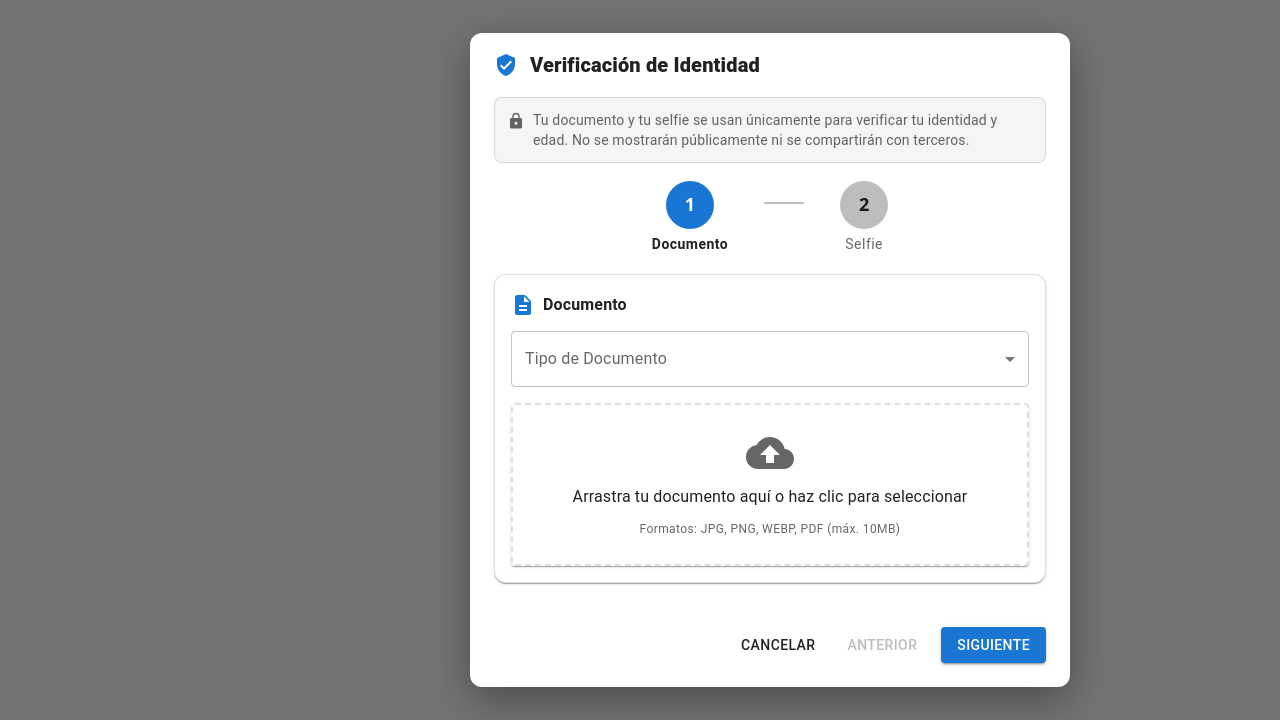
Test: IdentityVerificationDialog (paginated wizard) › navigates freely between pages without completing them
The width and height of the screenshot is (1280, 720).
Click the button "Siguiente" at x=994, y=645, box left=941, top=627, right=1046, bottom=663
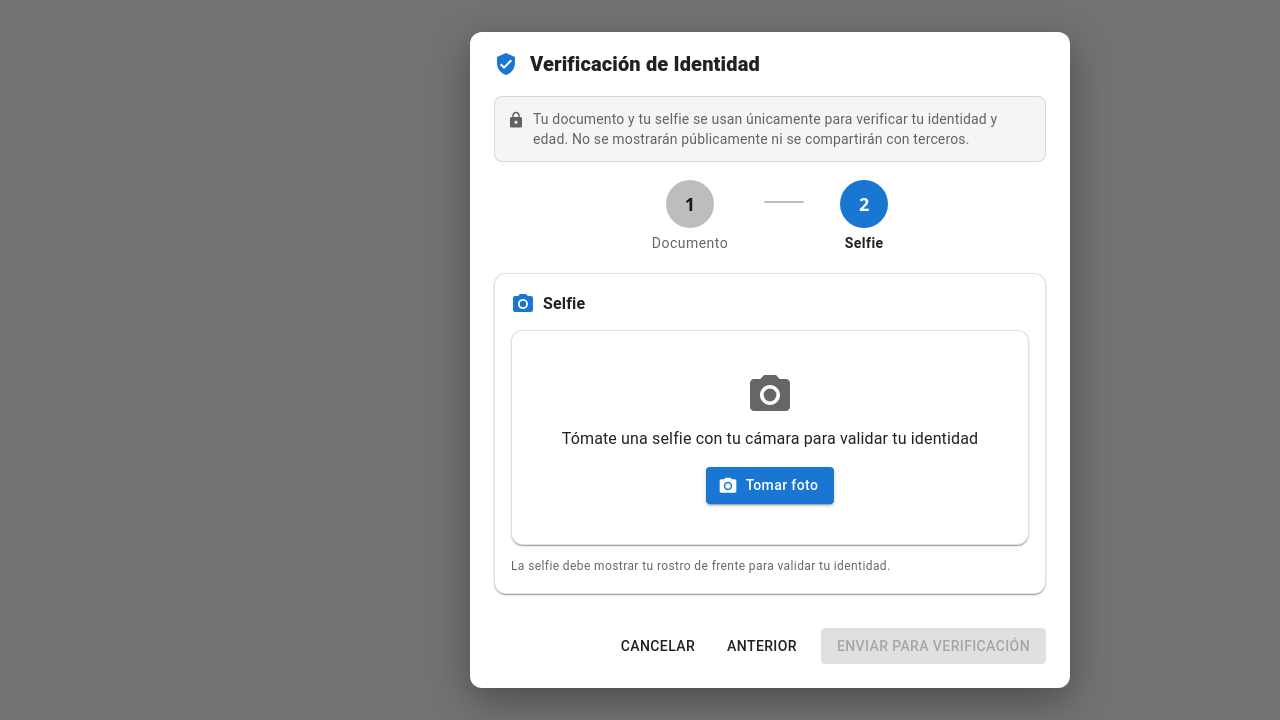
expect the text "Tómate una selfie con tu cámara para validar tu identidad" is shown: met, box left=528, top=427, right=1012, bottom=451
expect the label "Tipo de Documento" is gone: met
Click the button "Anterior" at x=762, y=646, box left=719, top=628, right=805, bottom=664
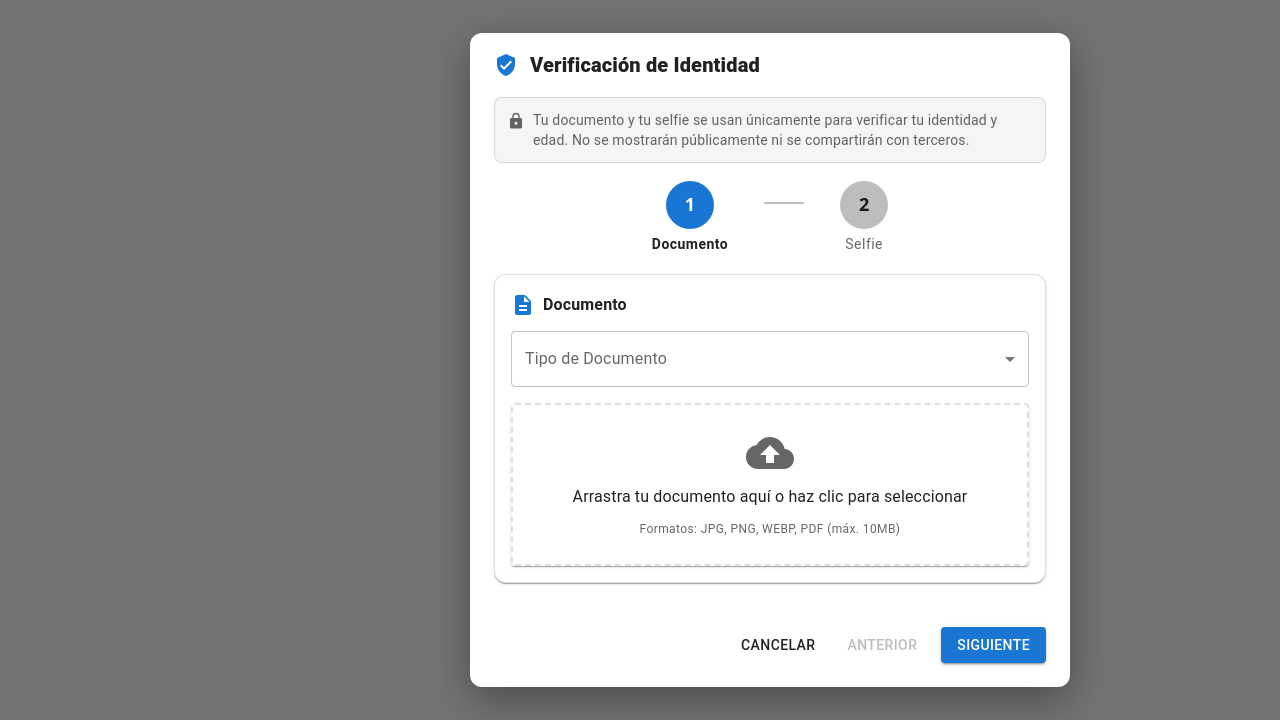
expect the dropdown named "Tipo de Documento" is shown: met, box left=511, top=331, right=1029, bottom=387
